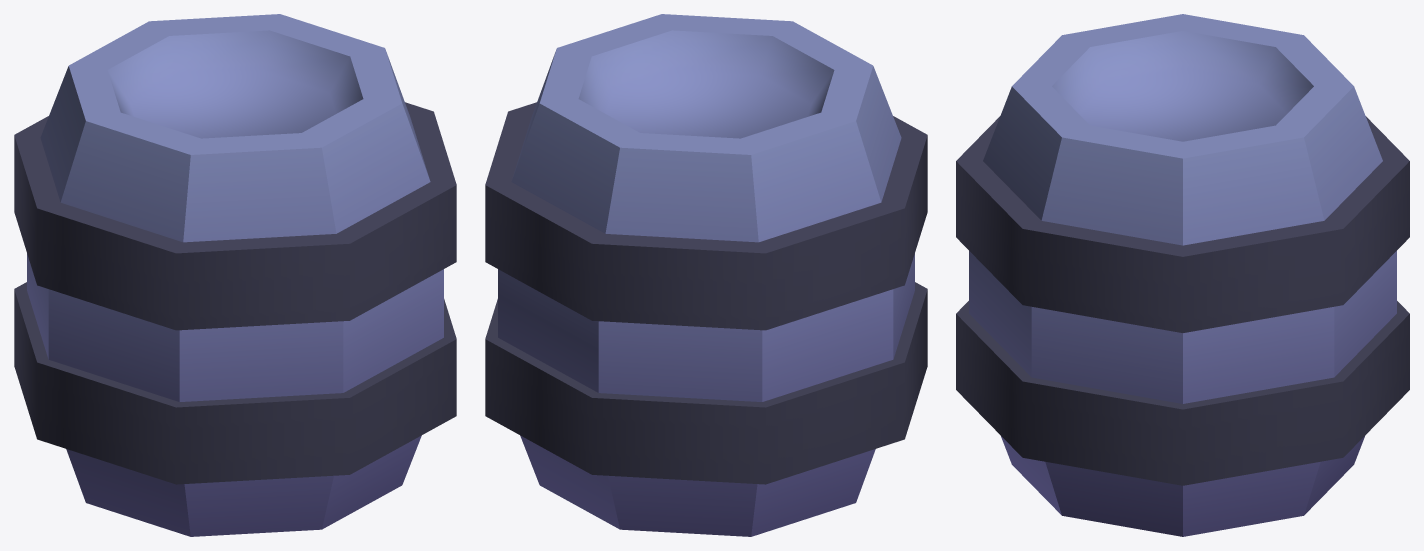
File: barrel.fbx
3 renders of one model, left to right at view 1: azimuth 30°, elevation 25°; view 2: azimuth 150°, elevation 25°; view 3: azimuth 270°, elevation 25°, orthographic.
Parts seen in each view (by area): view 1: barrel; view 2: barrel; view 3: barrel.
Boxes of the visible parts, <box> form: barrel: <box>14,14,456,536</box>; barrel: <box>485,14,927,536</box>; barrel: <box>956,14,1409,536</box>.
Size of the model in its own units: 134 by 123 by 134.
